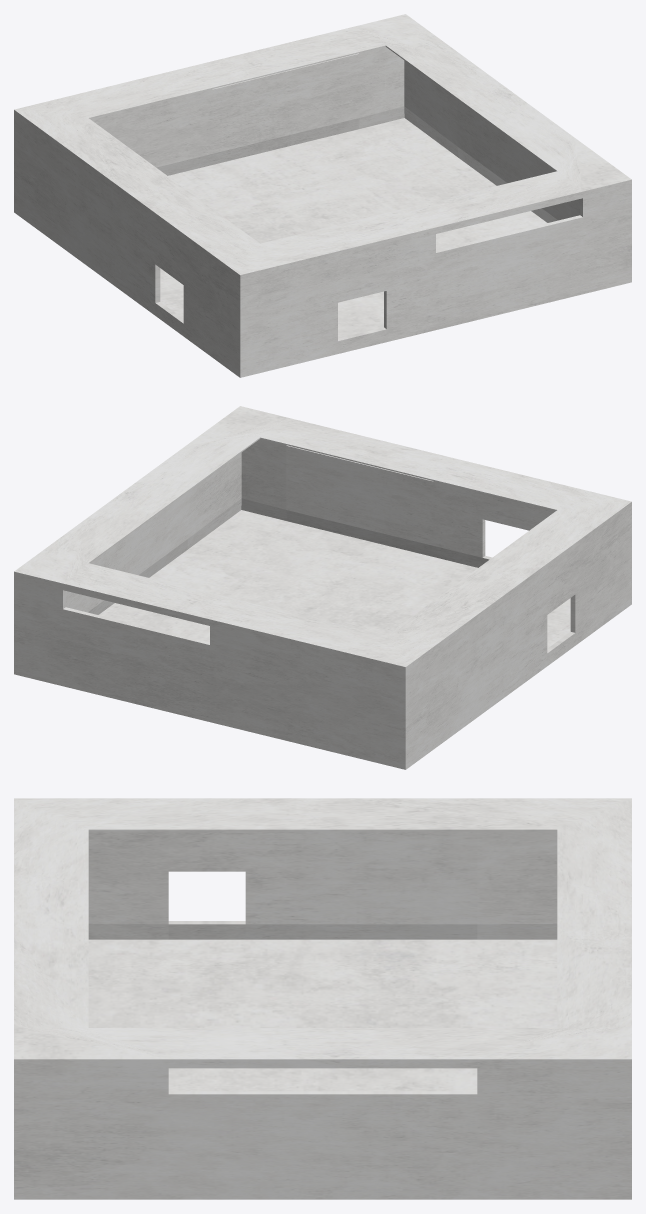
File: museum.glb
The picture shows the model from 3 angles, top to bottom: view 1: azimuth 30°, elevation 25°; view 2: azimuth 150°, elevation 25°; view 3: azimuth 270°, elevation 25°; orthographic projection. The views are drawn at different scales.
Parts seen in each view (by area): view 1: Cube; view 2: Cube; view 3: Cube.
Boxes of the visible parts, box(x1,y1,x2,y2) form: Cube: box(14, 14, 631, 377); Cube: box(14, 406, 631, 769); Cube: box(14, 798, 631, 1199).
Bounding box in the file's own units: 40 × 10.03 × 40.
1 material, 1 textured.
